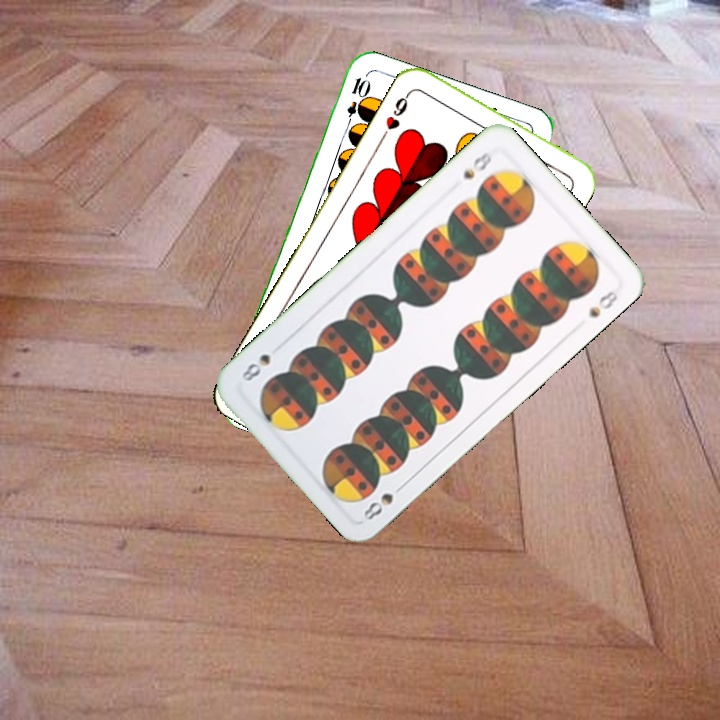E10: (341, 73, 369, 132)
H9: (377, 87, 414, 141)
S8: (359, 478, 409, 523), (458, 147, 494, 182)
